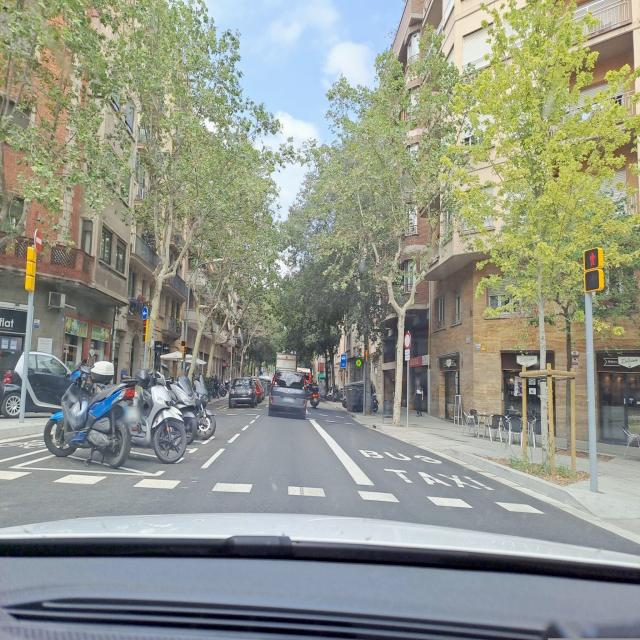bike: (80, 363, 187, 463), (43, 366, 132, 464), (154, 374, 215, 441)
car: (9, 350, 88, 418), (268, 371, 308, 419), (342, 380, 372, 412), (228, 377, 258, 409), (248, 376, 264, 402), (306, 383, 320, 408)
